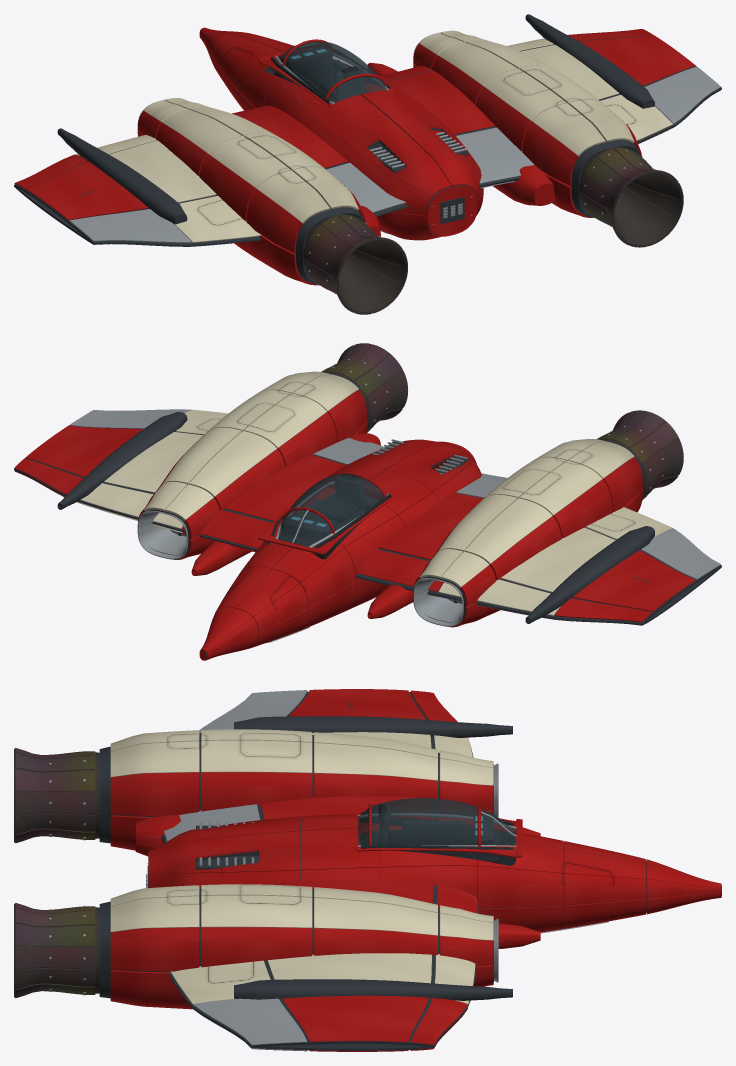
3 views of the same model, one above another, from view 1: azimuth 30°, elevation 25°; view 2: azimuth 150°, elevation 25°; view 3: azimuth 270°, elevation 25° (orthographic). The views are drawn at different scales.
Visible parts, largest first — view 1: Fitted lifting skin.007, Recessed convergent nozzle liner, Recessed convergent nozzle liner.001, Thin laminated canopy glazing, Fitted lifting skin.019, Fitted lifting skin.025, Fitted lifting skin.004, Fitted lifting skin.008, Load-bearing shoulder fairing.001, Fitted lifting skin.005, Load-bearing shoulder fairing.003, Fitted lifting skin.020 (+64 smaller); view 2: Thin laminated canopy glazing, Fitted lifting skin.007, Fitted lifting skin.019, Fitted lifting skin.025, Fitted lifting skin.004, Fitted lifting skin.001, Load-bearing shoulder fairing.001, Fitted lifting skin.022, Removable nacelle cowl.018, Removable nacelle cowl.050, Load-bearing shoulder fairing.003, Removable nacelle cowl.010 (+71 smaller); view 3: Thin laminated canopy glazing, Fitted lifting skin.025, Load-bearing shoulder fairing.003, Fitted lifting skin.022, Load-bearing shoulder fairing.001, Removable nacelle cowl.040, Removable nacelle cowl.032, Removable nacelle cowl, Removable nacelle cowl.008, Removable nacelle cowl.041, Removable nacelle cowl.009, Removable nacelle cowl.017 (+73 smaller).
Part boxes in pixels (<box>): Fitted lifting skin.007: <box>25,161,148,220</box>; Recessed convergent nozzle liner: <box>338,239,406,312</box>; Recessed convergent nozzle liner.001: <box>614,172,681,245</box>; Thin laminated canopy glazing: <box>278,41,386,102</box>; Fitted lifting skin.019: <box>365,70,495,134</box>; Fitted lifting skin.025: <box>579,34,695,85</box>; Fitted lifting skin.004: <box>109,140,216,202</box>; Fitted lifting skin.008: <box>69,209,191,242</box>; Load-bearing shoulder fairing.001: <box>57,128,185,224</box>; Fitted lifting skin.005: <box>174,196,261,242</box>; Load-bearing shoulder fairing.003: <box>525,14,653,108</box>; Fitted lifting skin.020: <box>456,127,534,183</box>; Thin laminated canopy glazing: <box>278,474,386,546</box>; Fitted lifting skin.007: <box>572,550,695,611</box>; Fitted lifting skin.019: <box>224,454,345,521</box>; Fitted lifting skin.025: <box>26,425,143,477</box>; Fitted lifting skin.004: <box>501,527,615,592</box>; Fitted lifting skin.001: <box>378,493,483,559</box>; Load-bearing shoulder fairing.001: <box>525,526,654,623</box>; Fitted lifting skin.022: <box>104,432,203,492</box>; Removable nacelle cowl.018: <box>465,498,552,564</box>; Removable nacelle cowl.050: <box>189,431,276,497</box>; Load-bearing shoulder fairing.003: <box>57,412,187,509</box>; Removable nacelle cowl.010: <box>520,460,602,516</box>; Thin laminated canopy glazing: <box>358,798,516,845</box>; Fitted lifting skin.025: <box>282,995,428,1042</box>; Load-bearing shoulder fairing.003: <box>234,979,512,1000</box>; Fitted lifting skin.022: <box>267,953,431,983</box>; Load-bearing shoulder fairing.001: <box>234,716,512,737</box>; Removable nacelle cowl.040: <box>201,927,312,967</box>; Removable nacelle cowl.032: <box>110,927,199,971</box>; Removable nacelle cowl: <box>110,772,199,816</box>; Removable nacelle cowl.008: <box>201,772,312,811</box>; Removable nacelle cowl.041: <box>201,895,312,927</box>; Removable nacelle cowl.009: <box>201,740,312,773</box>; Removable nacelle cowl.017: <box>314,743,437,780</box>.
Size of the model in its own units: 3.92 by 0.7099 by 3.32.
9 materials, 3 textured.
